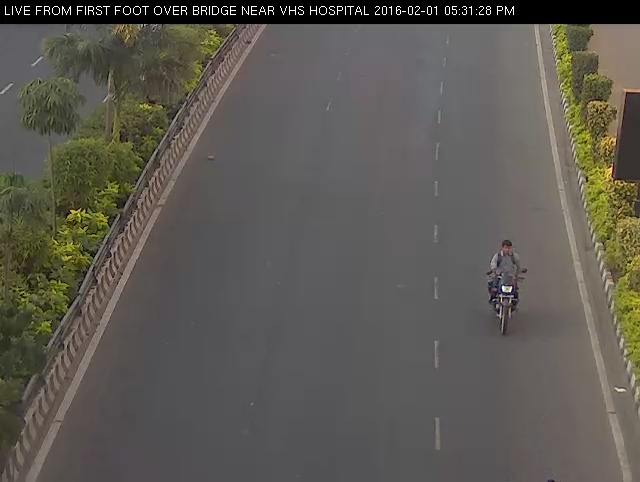Person: (481, 223, 531, 342)
